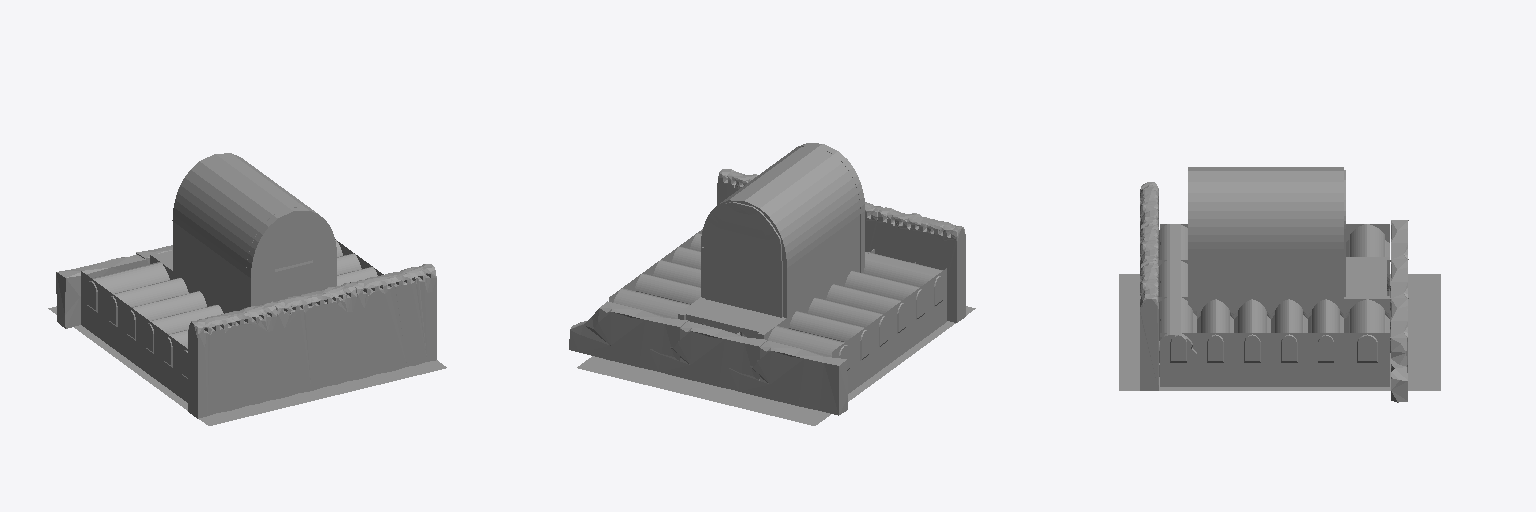
Rendered from rosslyn_building_interior.obj.
3 views of the same model, side by side, from view 1: azimuth 30°, elevation 25°; view 2: azimuth 150°, elevation 25°; view 3: azimuth 270°, elevation 25° (orthographic).
Bounding box in the file's own units: 34.02 × 19.36 × 35.